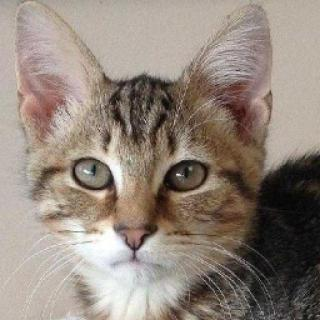cat: (14, 1, 278, 297)
nose: (108, 209, 162, 258)
